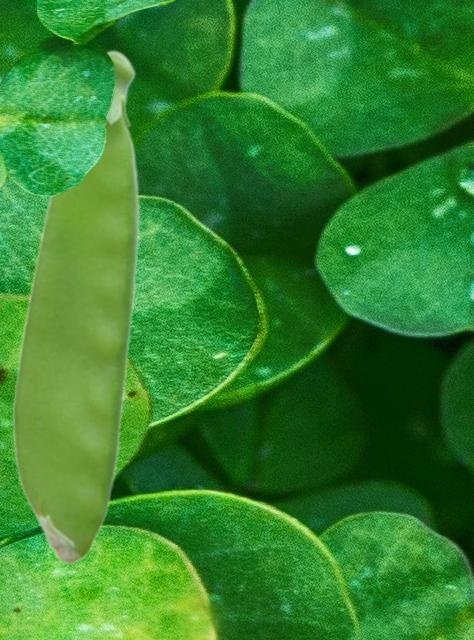pea: (11, 48, 140, 564)
